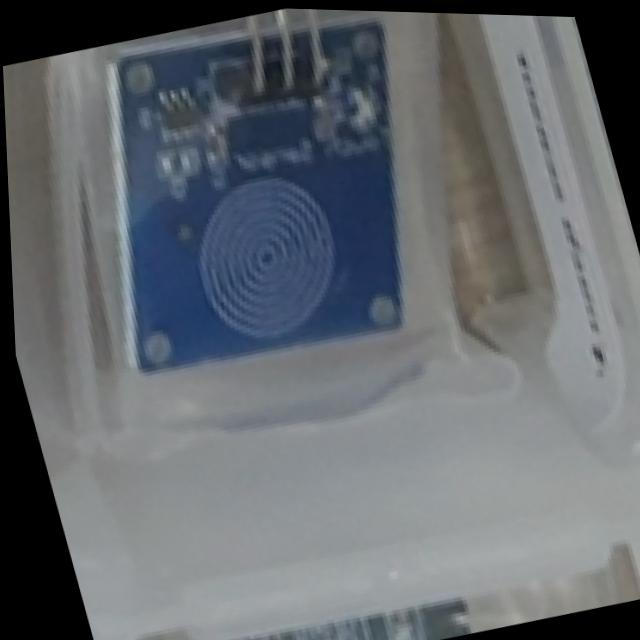LED: (34, 1, 471, 408)
Touch Sensor: (49, 1, 470, 405)
